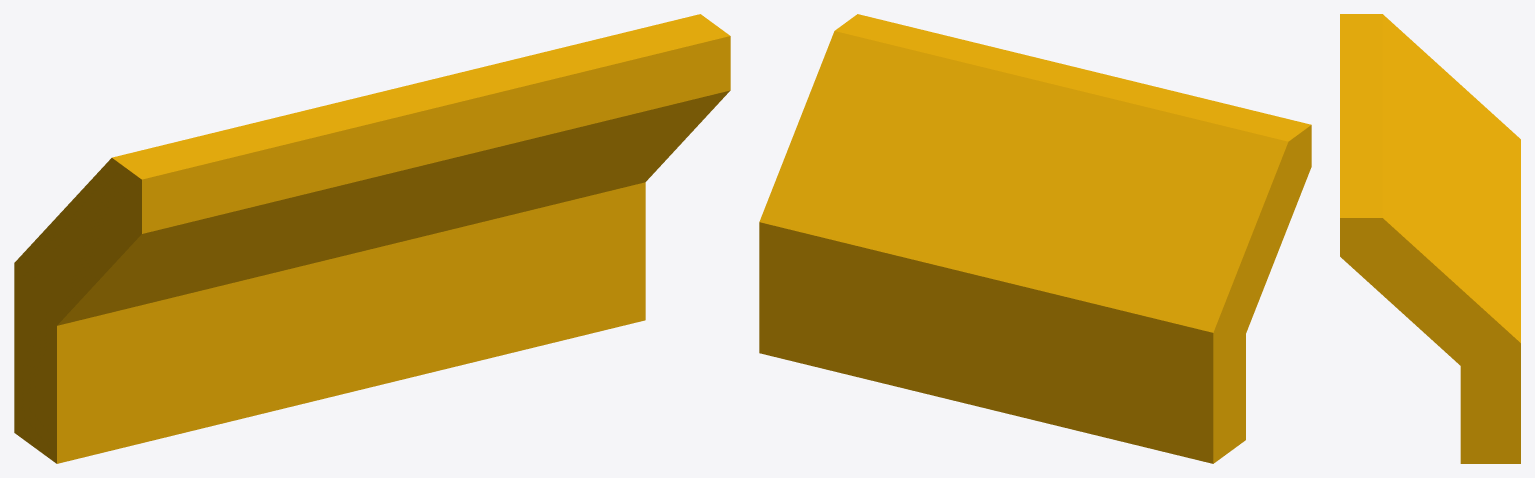
File: fender_corner_interface_center_1x3.dae
The picture shows the model from 3 angles, left to right: view 1: azimuth 30°, elevation 25°; view 2: azimuth 150°, elevation 25°; view 3: azimuth 270°, elevation 25°; orthographic projection. The views are drawn at different scales.
Visible parts, largest first — view 1: Cube; view 2: Cube; view 3: Cube.
Part boxes in pixels (x1,y1,x2,y2): Cube: (14,14,730,463); Cube: (759,14,1311,463); Cube: (1340,14,1520,463).
Size of the model in its own units: 0.5 by 0.1875 by 0.2812.
